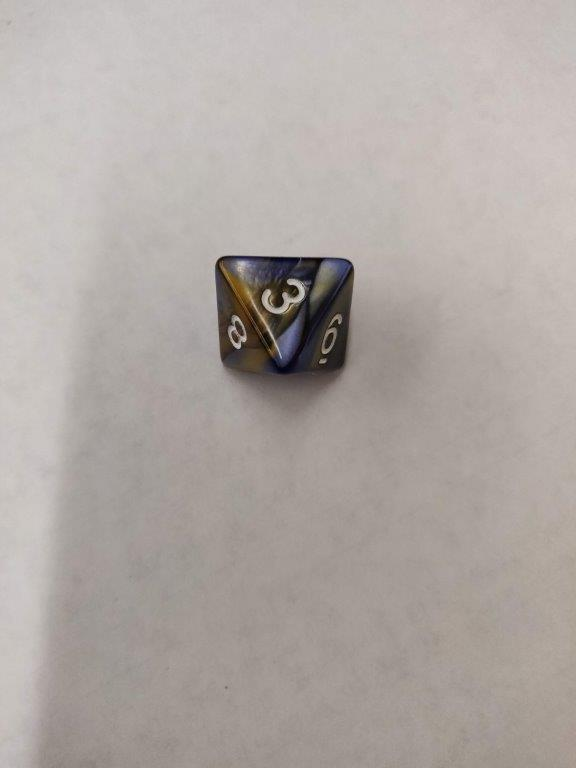d8-3: (214, 254, 355, 374)
